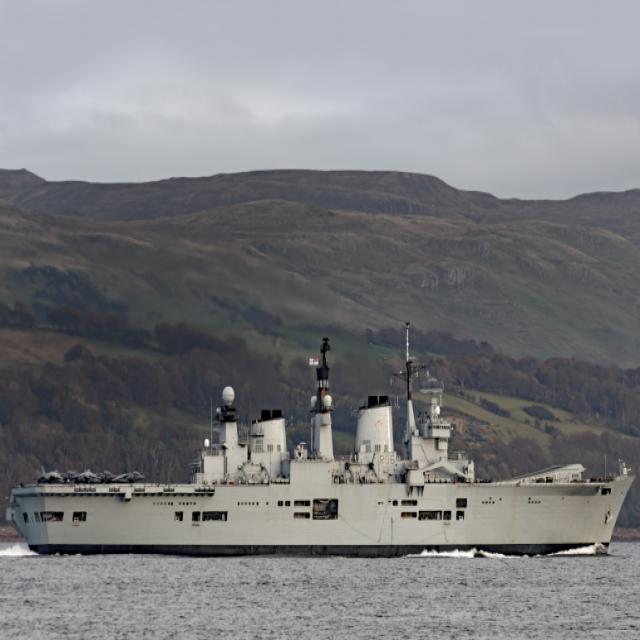Portanaves: (3, 311, 639, 564)
